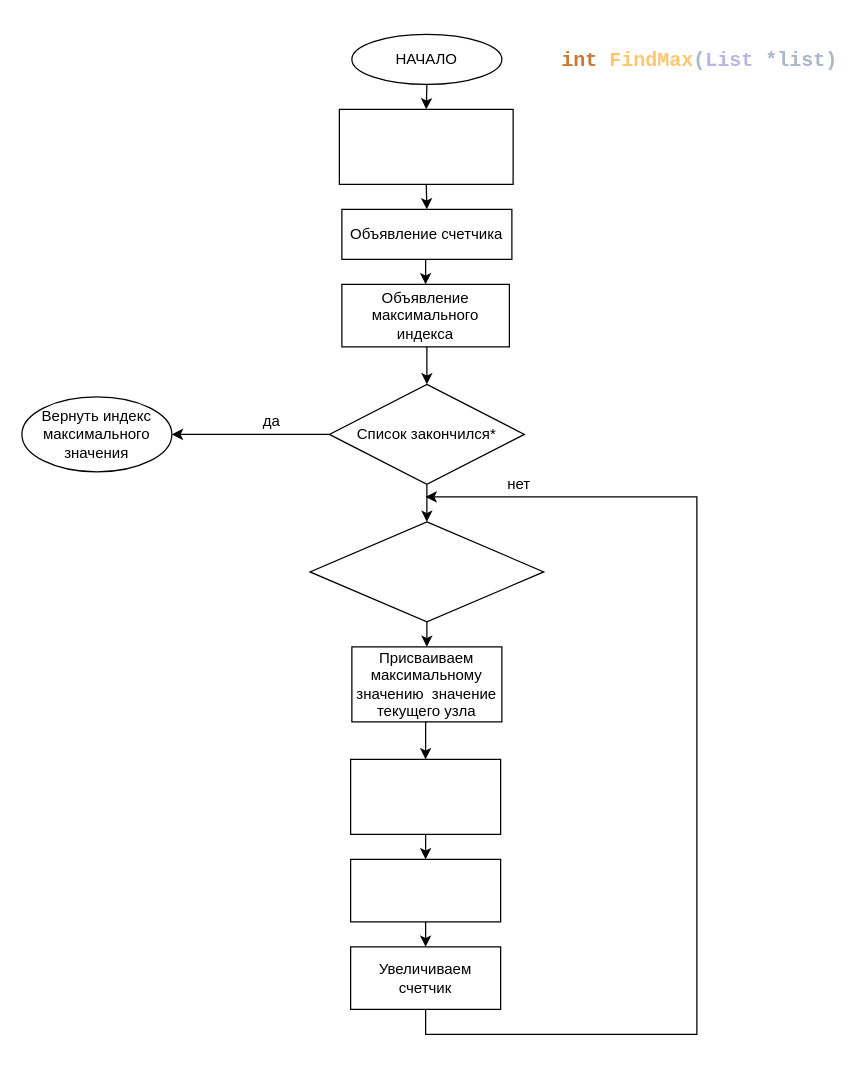
Some shapes in this 860 by 1066 pixel diagram are drawn without their labels. Each missing label, with the centre of its shape:
Значение текущего узла больше максимального значения?: the point at 426,571
Инициализируем максимальное значение первым элементом: the point at 425,146
Переходим к следующему узлу: the point at 425,890
Присваиваем индексу макс значения значение счетчика: the point at 425,796
